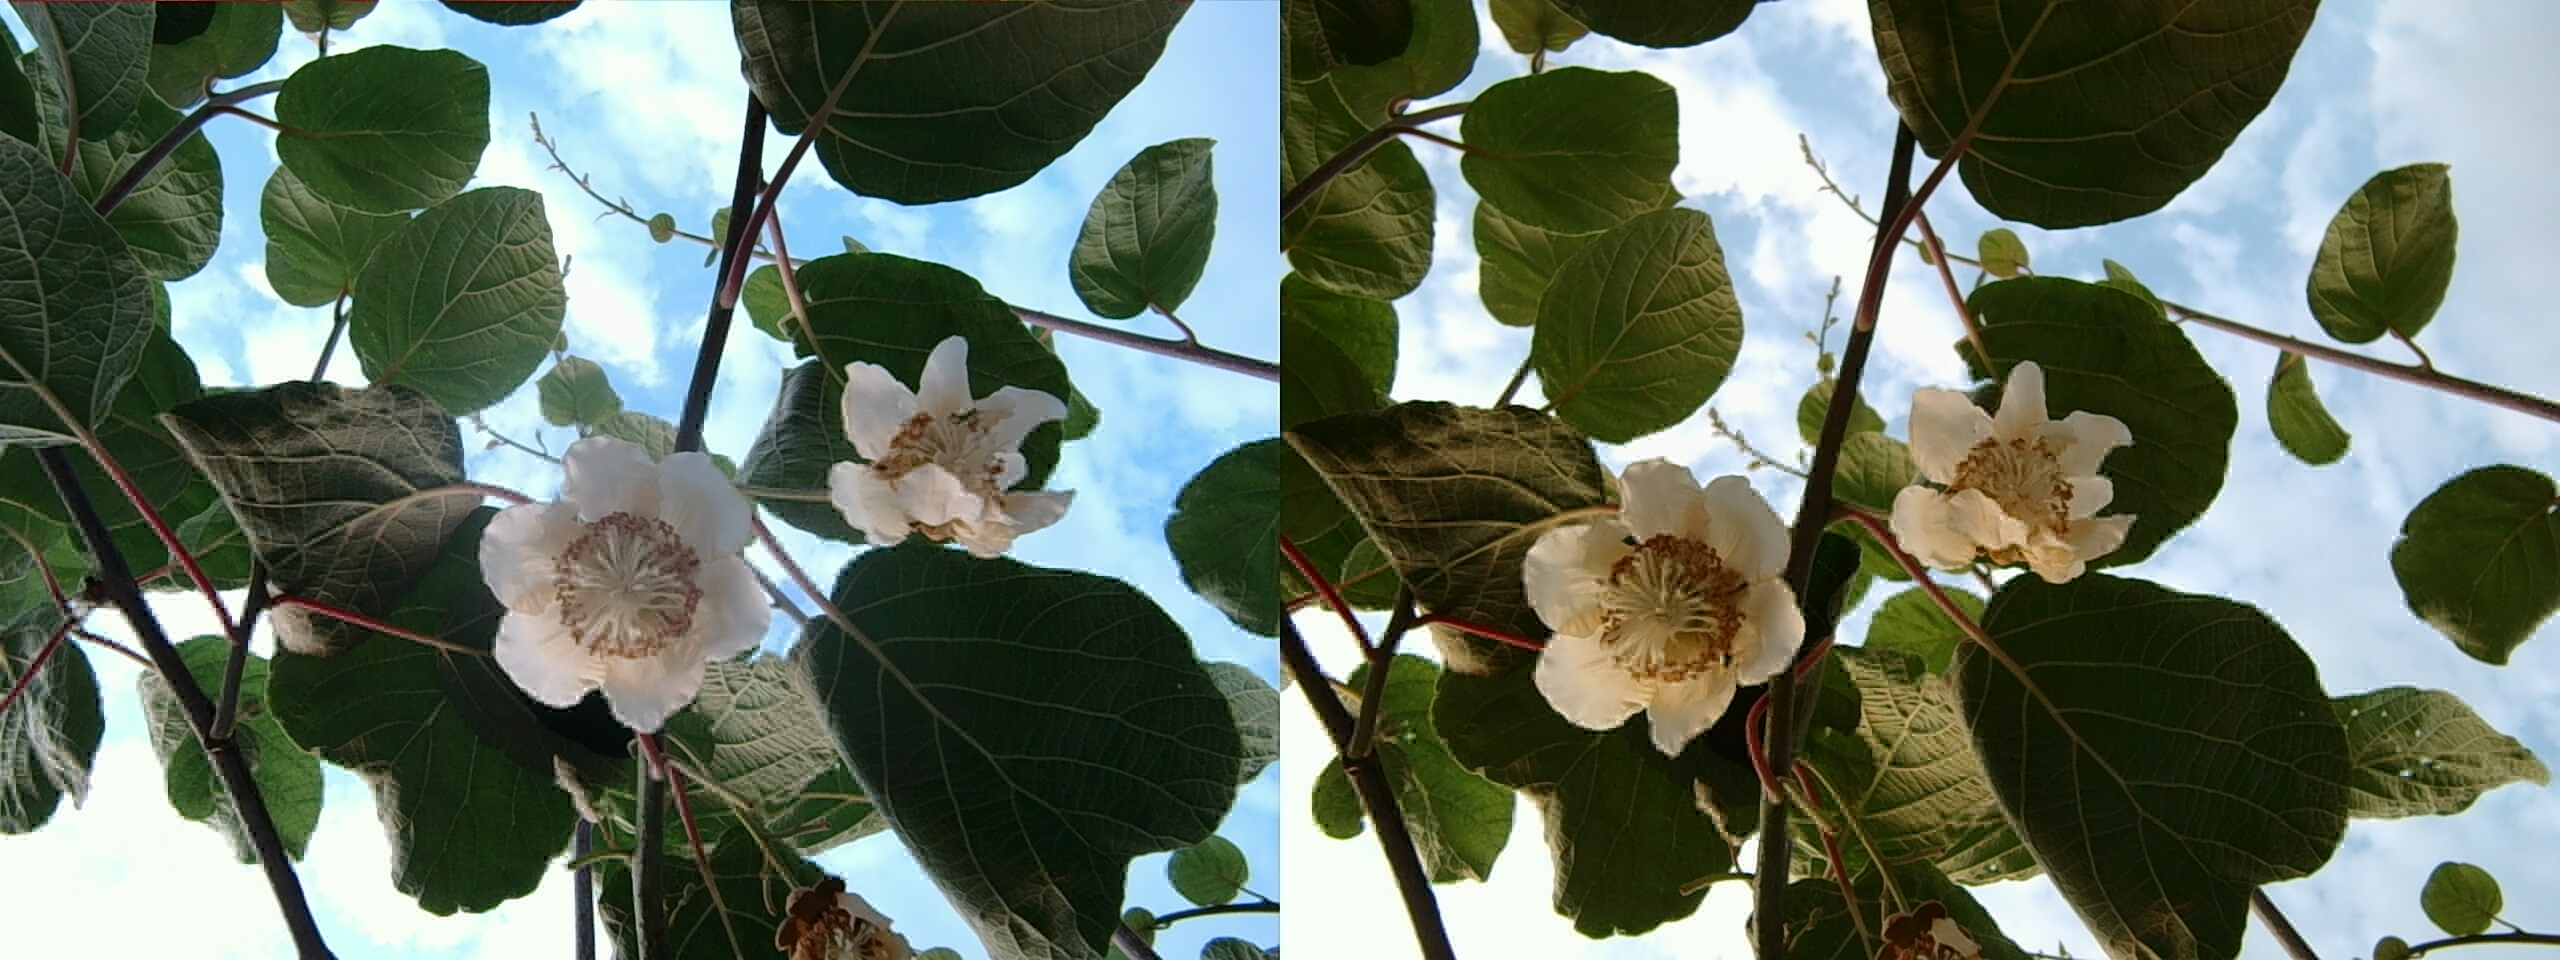flower: (473, 433, 762, 730), (1523, 462, 1794, 740), (1900, 364, 2124, 576), (842, 341, 1068, 545)
